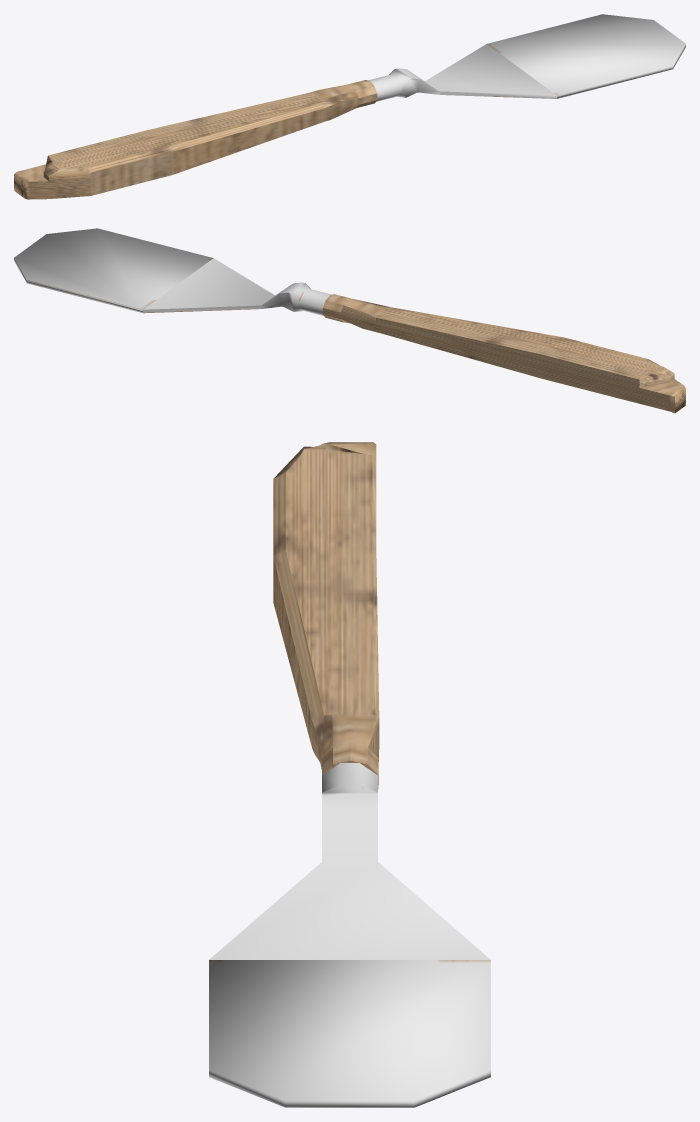
Rendered from Spatula2.fbx.
The picture shows the model from 3 angles, top to bottom: view 1: azimuth 30°, elevation 25°; view 2: azimuth 150°, elevation 25°; view 3: azimuth 270°, elevation 25°; orthographic projection. The views are drawn at different scales.
Parts seen in each view (by area): view 1: Spatula2; view 2: Spatula2; view 3: Spatula2.
Part boxes in pixels (<box>): Spatula2: <box>14,14,685,199</box>; Spatula2: <box>14,228,685,413</box>; Spatula2: <box>209,442,490,1107</box>.
Size of the model in its own units: 0.5523 by 0.0239 by 0.1037.
